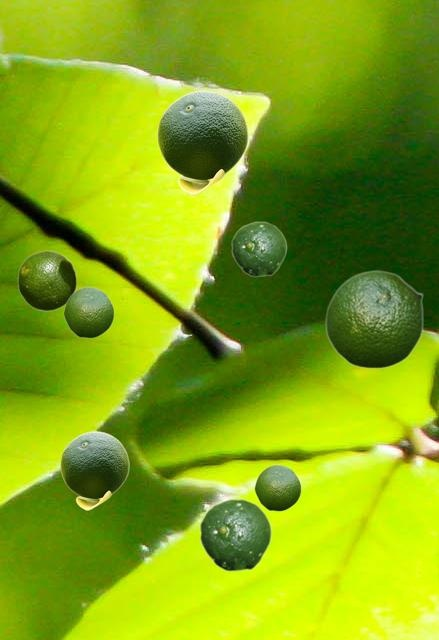calamansi: (325, 270, 423, 368), (157, 90, 247, 194), (60, 431, 128, 509), (199, 498, 271, 571), (17, 250, 76, 310), (231, 221, 286, 276), (63, 286, 113, 337), (254, 464, 300, 510)
